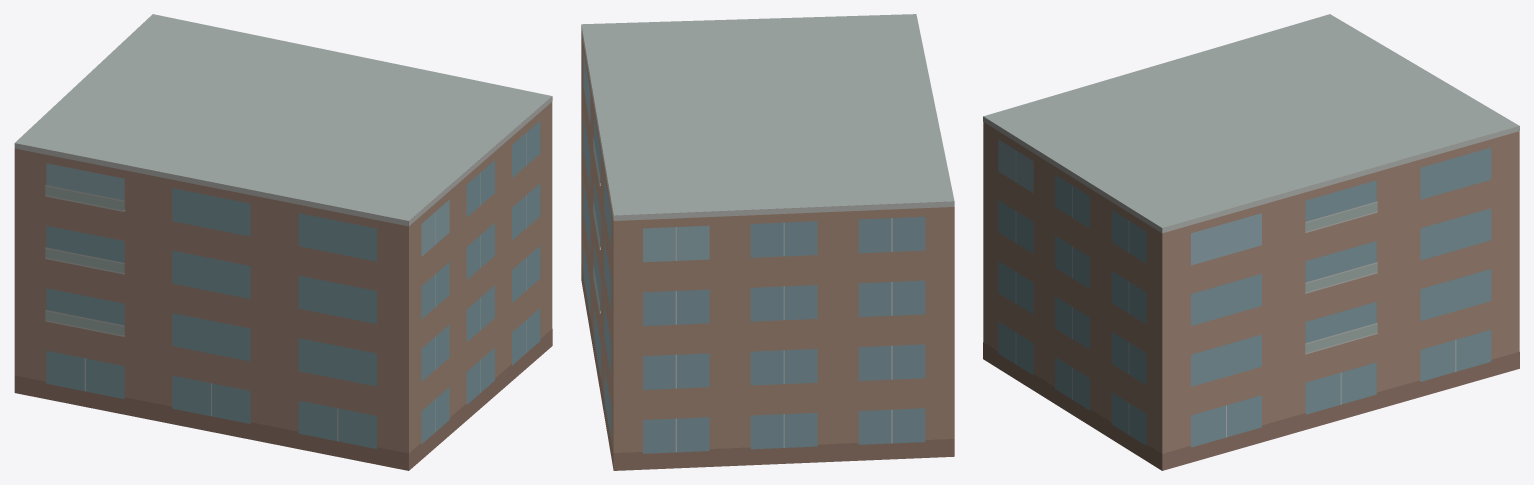
The model's file is survey-upis-32810731.glb.
3 renders of one model, left to right at view 1: azimuth 30°, elevation 25°; view 2: azimuth 150°, elevation 25°; view 3: azimuth 270°, elevation 25°, orthographic. The views are drawn at different scales.
Visible parts, largest first — view 1: survey-upis-32810731.tmp; view 2: survey-upis-32810731.tmp; view 3: survey-upis-32810731.tmp.
Part boxes in pixels (x1,y1,x2,y2): survey-upis-32810731.tmp: (14,14,552,470); survey-upis-32810731.tmp: (581,14,954,470); survey-upis-32810731.tmp: (983,14,1519,470).
Bounding box in the file's own units: 21.38 × 11.3 × 22.64.
